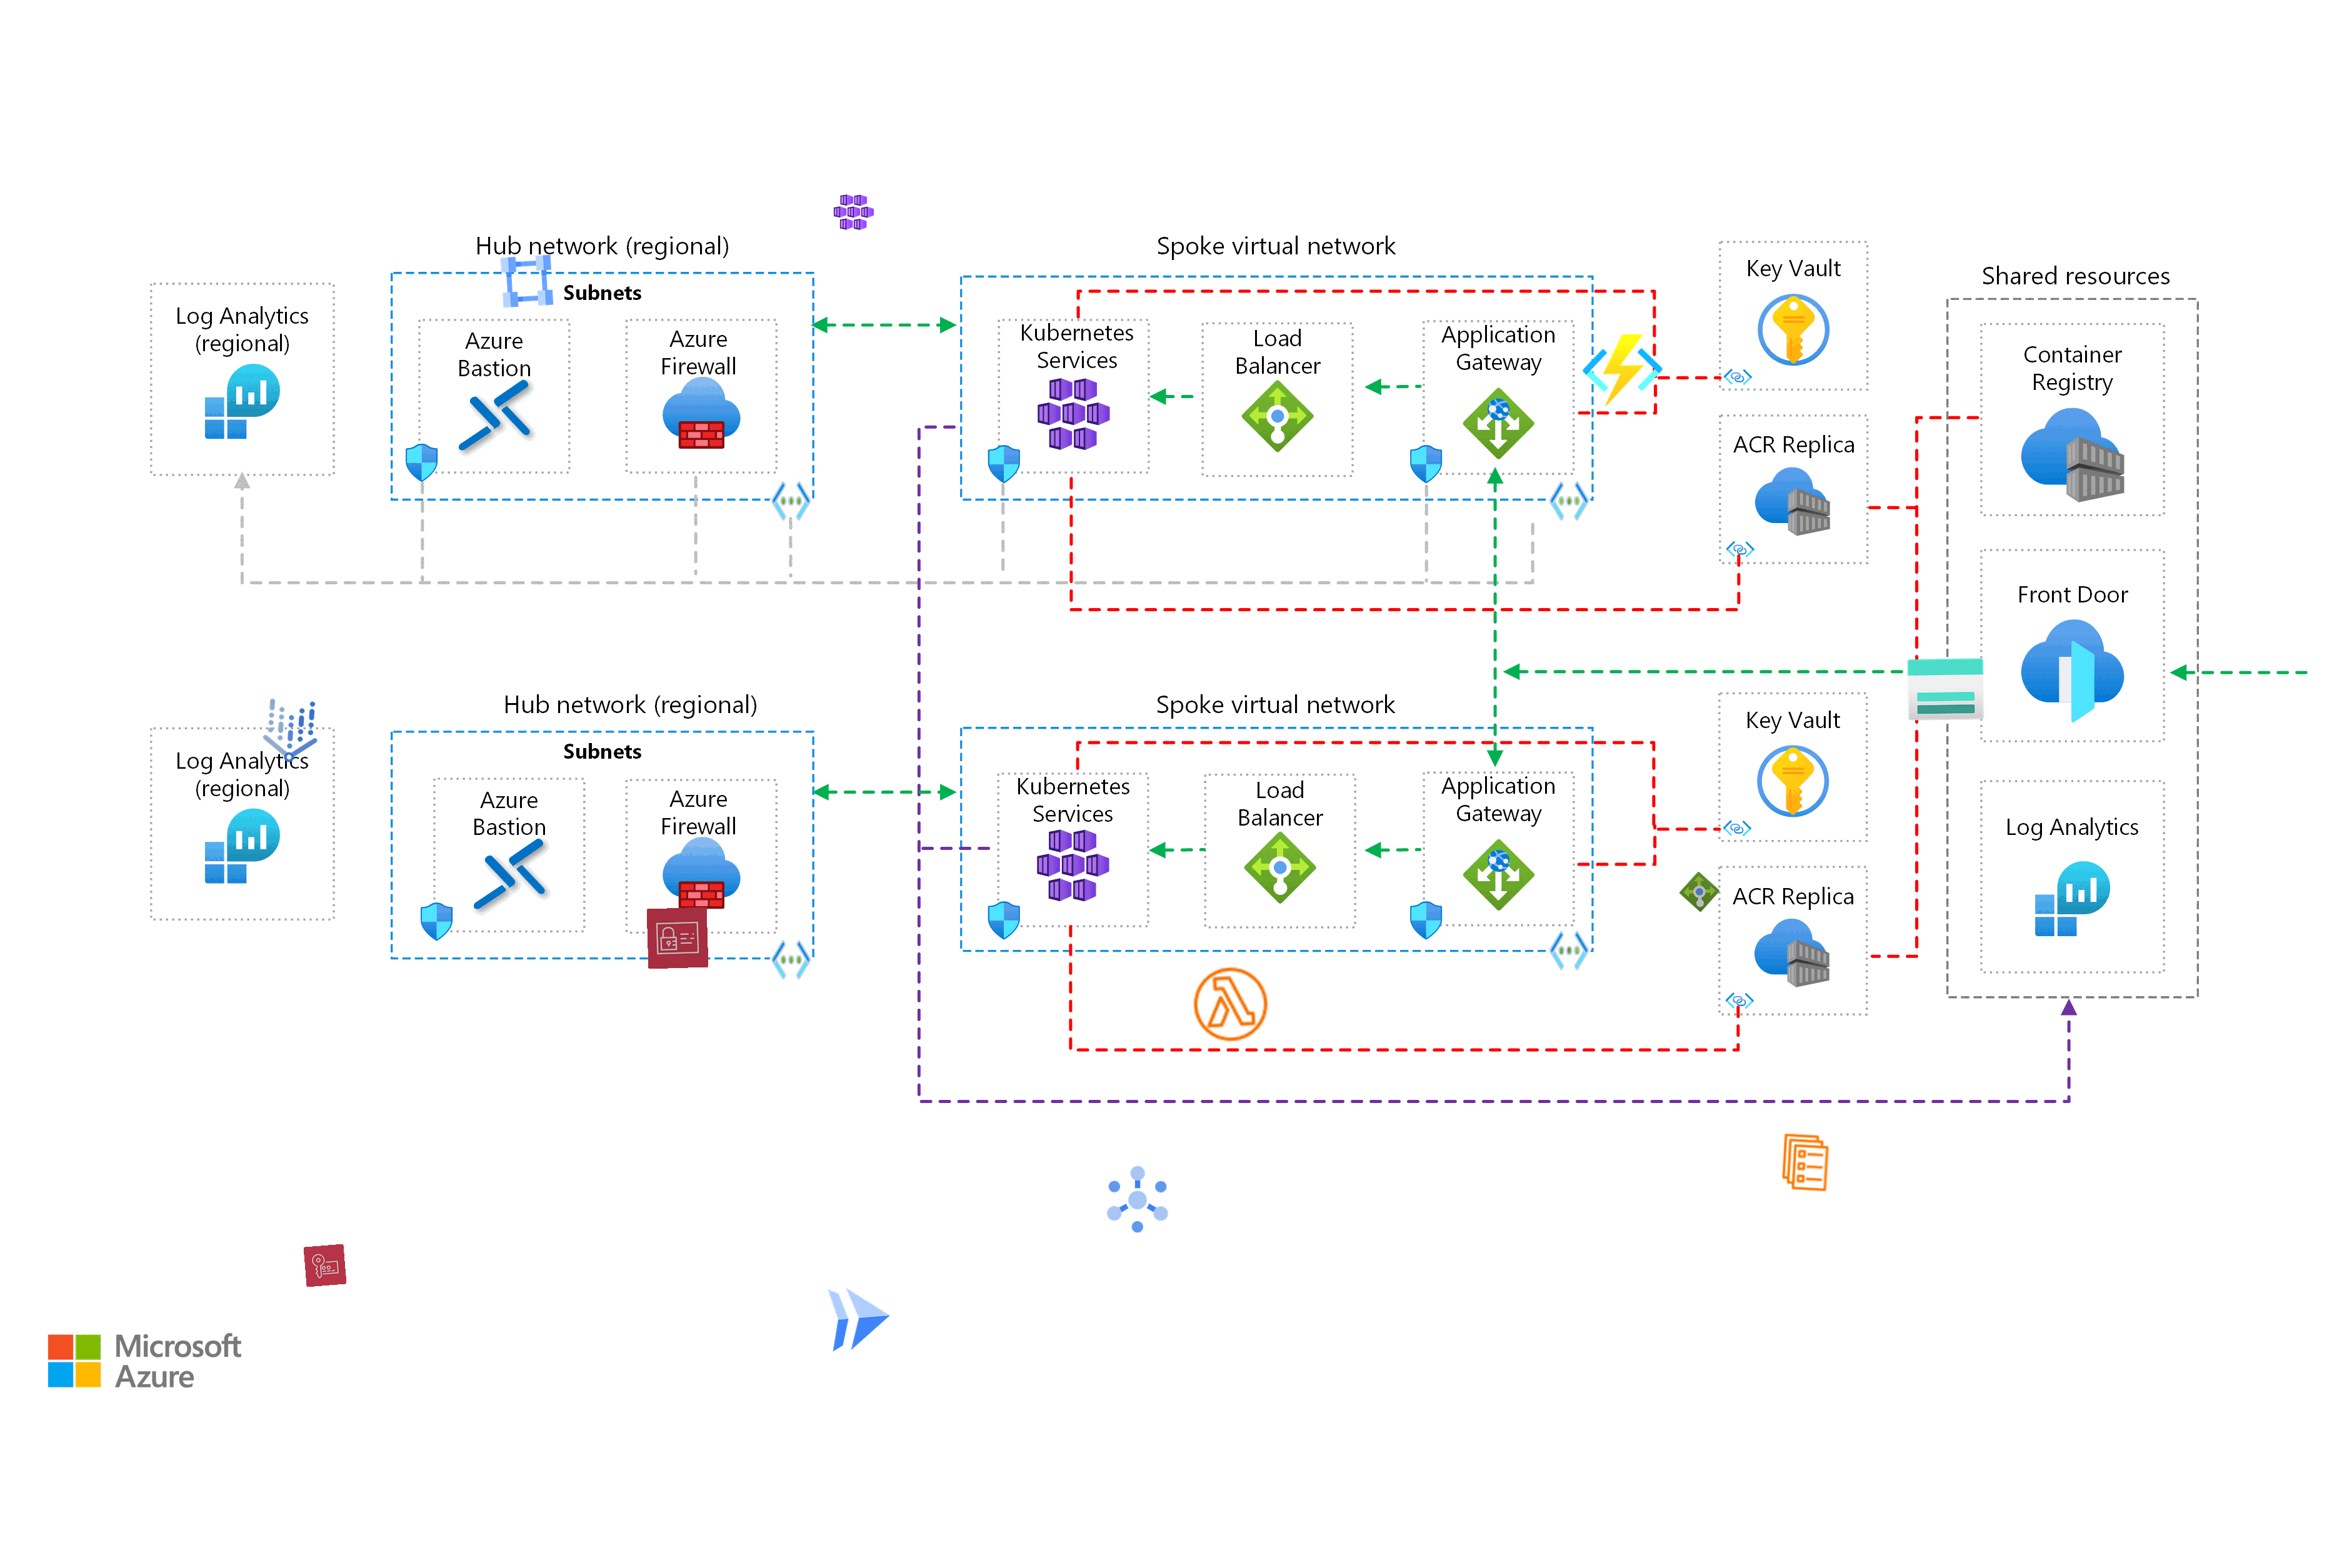aws_elastic_container_service_service: (1774, 1130, 1837, 1193)
aws_identity_and_access_management: (646, 906, 709, 969)
aws_key_management_service: (303, 1244, 347, 1288)
aws_lambda_lambda_function: (1188, 962, 1274, 1046)
azure_function_apps: (1582, 329, 1664, 411)
azure_kubernetes_services: (833, 191, 875, 233)
azure_load_balancers: (1678, 870, 1720, 913)
azure_storage_accounts: (1906, 649, 1986, 730)
gcp_cloud_run: (815, 1274, 903, 1361)
gcp_pubsub: (1097, 1158, 1178, 1241)
gcp_vertex_ai: (247, 688, 334, 773)
gcp_virtual_private_cloud: (495, 248, 558, 313)
